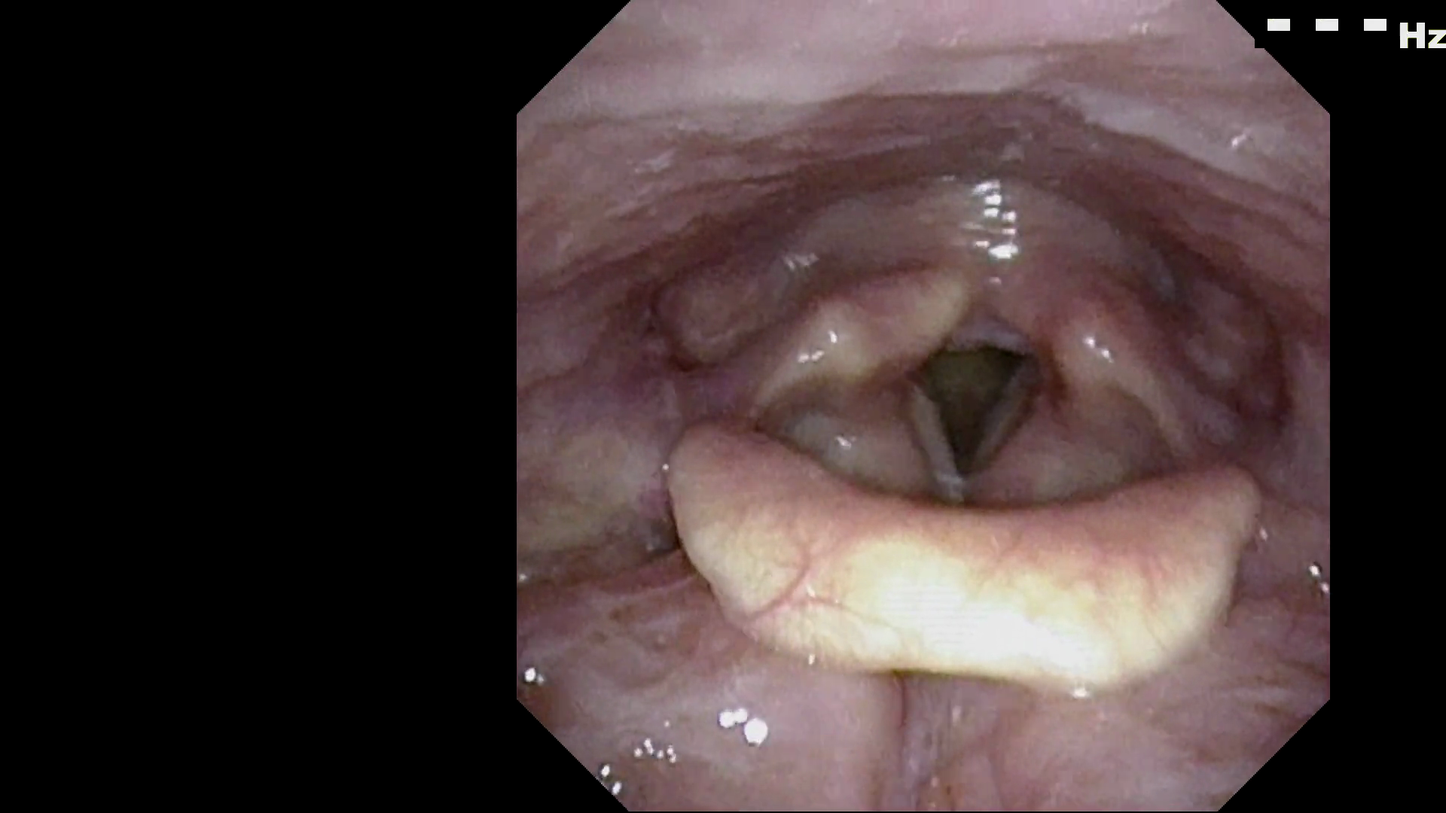epiglottis: (659, 410, 1276, 693)
trachea: (888, 315, 1054, 488)
